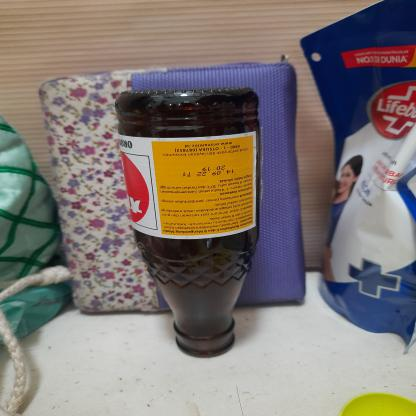glass: (106, 85, 268, 362)
